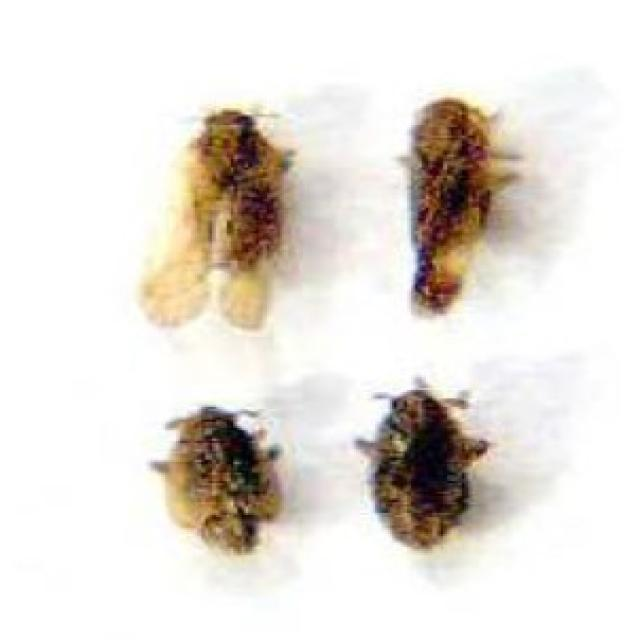brown plant hopper: (144, 108, 290, 326), (413, 97, 513, 312), (369, 390, 487, 547), (155, 407, 280, 553)
